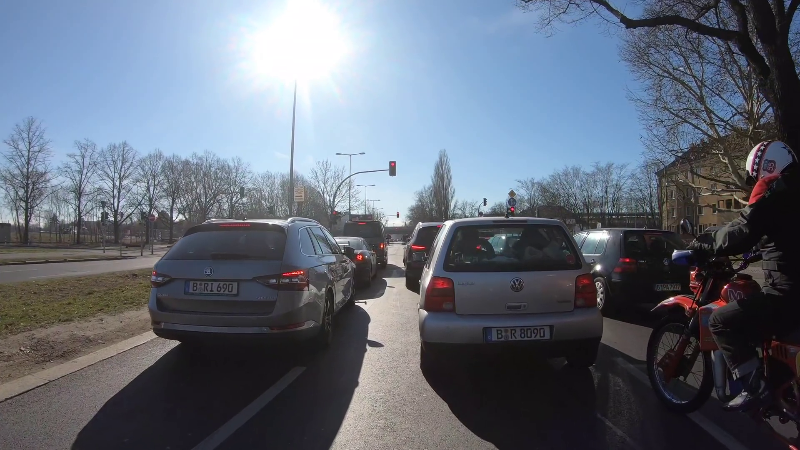Plate: (482, 324, 553, 342), (183, 276, 239, 297), (652, 280, 683, 292)
